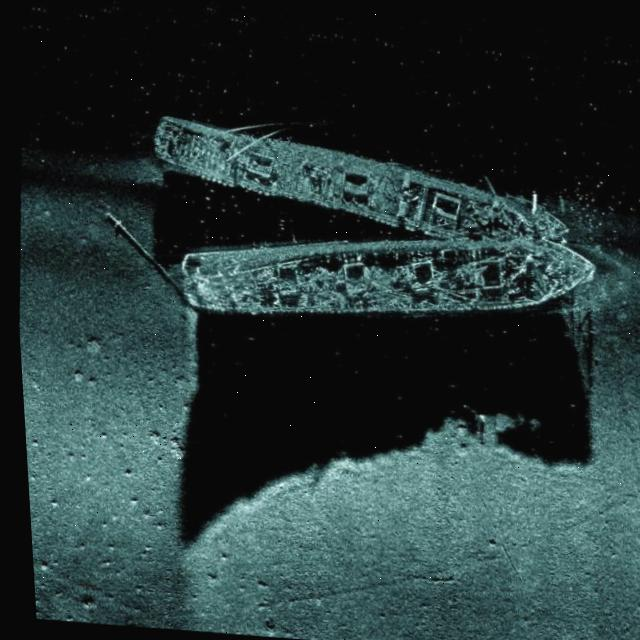shipwreck: (165, 202, 597, 350), (139, 112, 576, 243)
